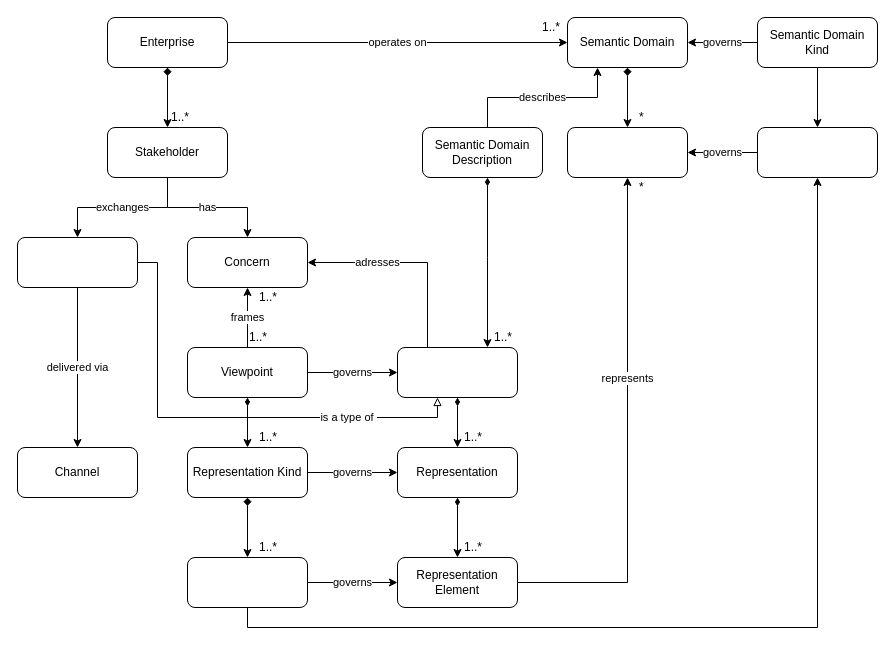
Image size: 895x653. Some labels were removed from this diagram. The box of each missing label's shape, as (x1, y1, x2, y2) in pixels:
Message: (16, 236, 138, 288)
Representation Element Kind: (186, 556, 308, 608)
Semantic Element: (566, 126, 688, 178)
Semantic Element Kind: (756, 126, 878, 178)
View: (396, 346, 518, 398)
